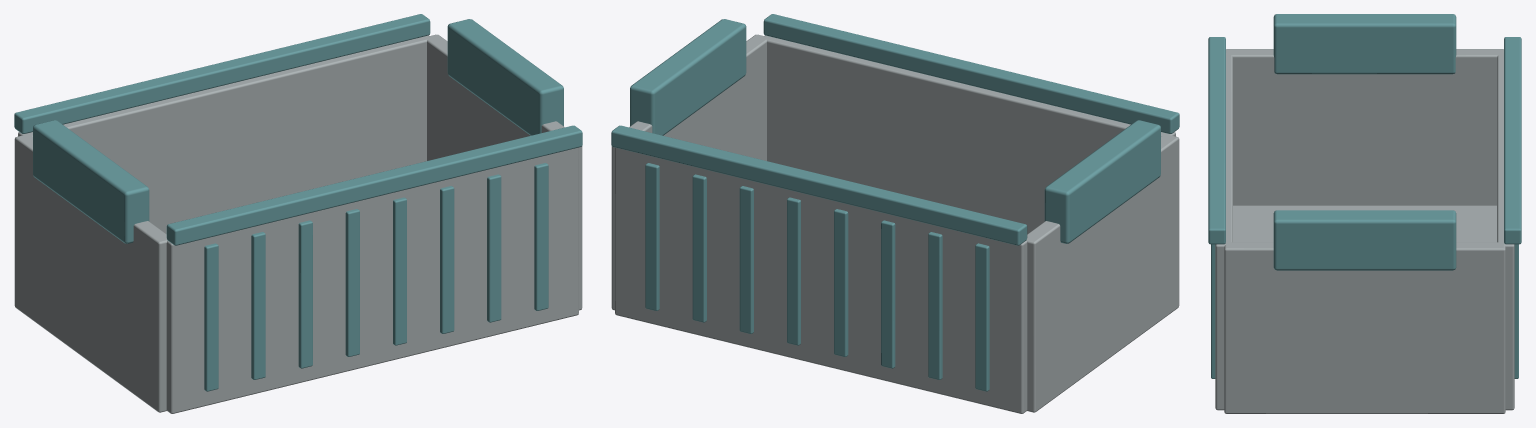
The model's file is flooded-and-coastal-survival-ventilated-fish-tote-61703e03__20095.glb.
3 views of the same model, side by side, from view 1: azimuth 30°, elevation 25°; view 2: azimuth 150°, elevation 25°; view 3: azimuth 270°, elevation 25° (orthographic). The views are drawn at different scales.
Visible parts, largest first — view 1: ventilated-fish-tote; view 2: ventilated-fish-tote; view 3: ventilated-fish-tote.
Part boxes in pixels (x1=…): ventilated-fish-tote: x1=14, y1=14, x2=582, y2=413; ventilated-fish-tote: x1=611, y1=14, x2=1179, y2=413; ventilated-fish-tote: x1=1208, y1=14, x2=1521, y2=413.
Size of the model in its own units: 0.7 by 0.31 by 0.445.
